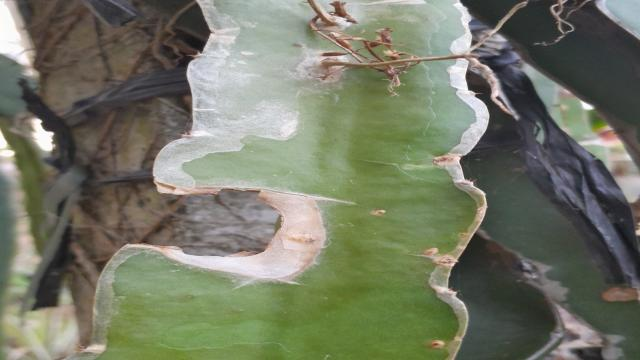stemcanker: (363, 202, 393, 223), (425, 337, 454, 353), (420, 243, 443, 259)
